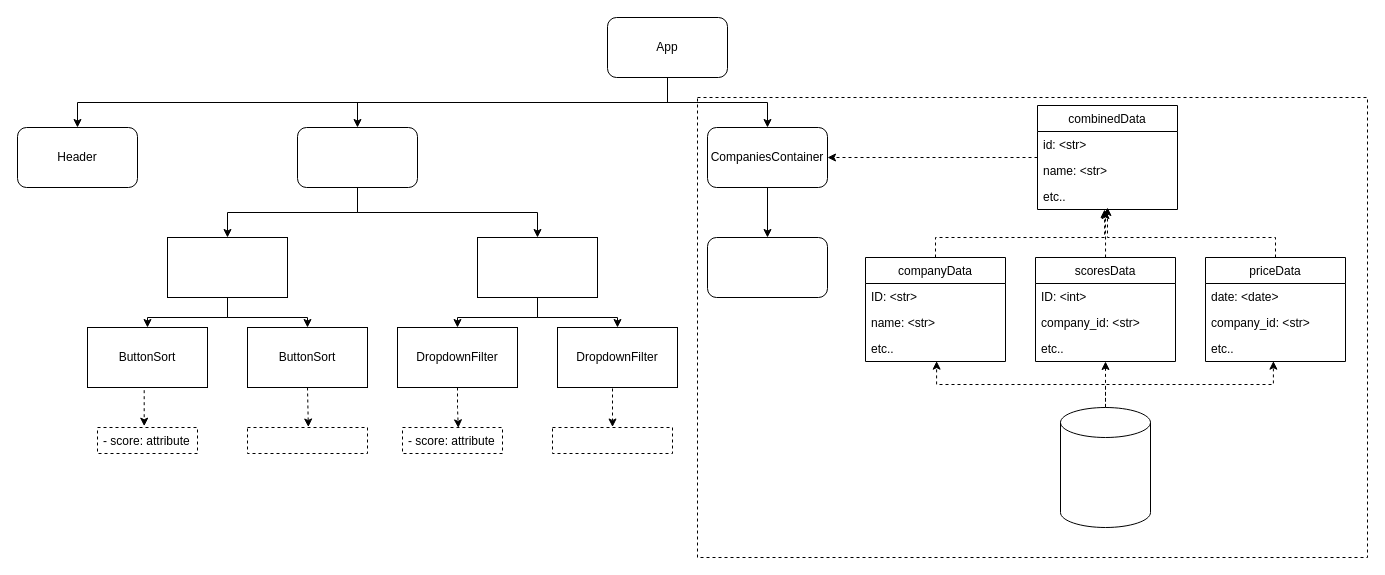
Image size: 1385x575. Some labels were removed from this diagram. The centre of each missing label's shape, as x and y in pixels:
- exchange: attribute: [612,440]
- volatility: attribute: [307,440]
backend-simplywallst API: [1105,467]
CompanyArticle: [767,267]
FilterDiv: [537,267]
NavBar: [357,157]
SortDiv: [227,267]
